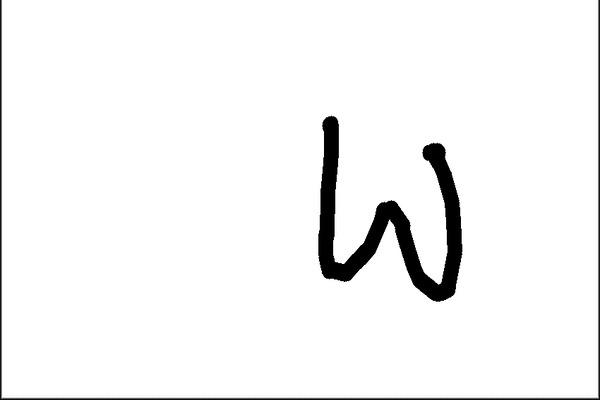w: (297, 100, 475, 319)
